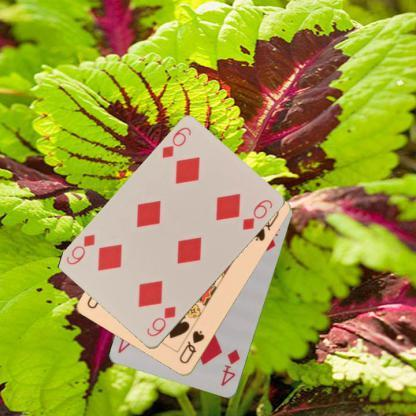4d: (219, 346, 242, 388)
6d: (158, 124, 192, 160), (144, 304, 178, 338)
Qs: (176, 328, 206, 366)
